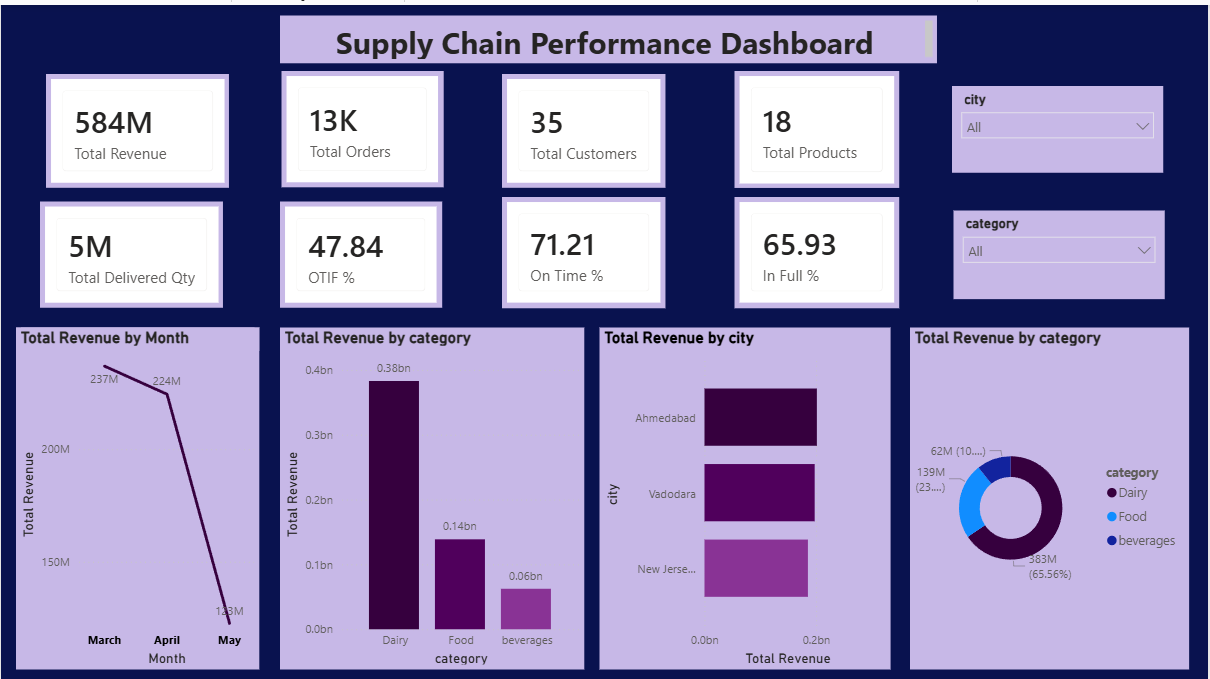

The page's visual inventory and layout, read from the dashboard file:
{"tool":"powerbi","page":{"name":"Page 1","canvas":[1280,720],"ordinal":0},"visuals":[{"type":"cardVisual","fields":{"Data":["dim_customers.Total Revenue"]},"box":[47.7,73.2,194.1,120.9],"z":0},{"type":"cardVisual","fields":{"Data":["dim_customers.Total Customers"]},"box":[531.3,73.2,173.4,120.9],"z":1000},{"type":"cardVisual","fields":{"Data":["dim_customers.Total Products"]},"box":[777.8,70,175,124.1],"z":2000},{"type":"cardVisual","fields":{"Data":["dim_customers.Total Delivered Qty"]},"box":[41.4,208.4,194.1,112.9],"z":3000},{"type":"cardVisual","fields":{"Data":["dim_customers.OTIF %"]},"box":[295.9,208.4,171.8,112.9],"z":4000},{"type":"cardVisual","fields":{"Data":["dim_customers.On Time %"]},"box":[531.3,203.6,173.4,117.7],"z":5000},{"type":"cardVisual","fields":{"Data":["dim_customers.In Full %"]},"box":[777.8,203.6,175,117.7],"z":6000},{"type":"lineChart","fields":{"Category":["fact_order_line.order_placement_date.Variation.Date Hierarchy.Month"],"Y":["dim_customers.Total Revenue"]},"box":[15.9,342,257.7,362.7],"z":7000},{"type":"clusteredColumnChart","fields":{"Category":["dim_products.category"],"Y":["dim_customers.Total Revenue"]},"box":[295.9,342,322.9,362.7],"z":8000},{"type":"clusteredBarChart","fields":{"Category":["dim_customers.city"],"Y":["dim_customers.Total Revenue"]},"box":[634.7,342,308.6,362.7],"z":9000},{"type":"donutChart","fields":{"Y":["dim_customers.Total Revenue"],"Category":["dim_products.category"]},"box":[963.9,342,295.9,362.7],"z":10000},{"type":"textbox","box":[295.9,11.1,696.7,50.9],"z":11000},{"type":"slicer","fields":{"Values":["dim_customers.city"]},"box":[1008.4,85.9,224.3,92.3],"z":12000},{"type":"slicer","fields":{"Values":["dim_products.category"]},"box":[1010,217.9,224.3,93.8],"z":13000},{"type":"cardVisual","fields":{"Data":["dim_customers.Total Orders"]},"box":[296.7,70,171.7,123.3],"z":14000}]}

Visuals, with their boxes in screenshot pixels (x1, y1, x2, y2), scaled from the page's 1280x720 canvas onto the 1210x679 screenshot:
cardVisual - dim_customers.Total Revenue: rect(45, 69, 229, 183)
cardVisual - dim_customers.Total Customers: rect(502, 69, 666, 183)
cardVisual - dim_customers.Total Products: rect(735, 66, 901, 183)
cardVisual - dim_customers.Total Delivered Qty: rect(39, 197, 223, 303)
cardVisual - dim_customers.OTIF %: rect(280, 197, 442, 303)
cardVisual - dim_customers.On Time %: rect(502, 192, 666, 303)
cardVisual - dim_customers.In Full %: rect(735, 192, 901, 303)
lineChart - fact_order_line.order_placement_date.Variation.Date Hierarchy.Month x dim_customers.Total Revenue: rect(15, 323, 259, 665)
clusteredColumnChart - dim_products.category x dim_customers.Total Revenue: rect(280, 323, 585, 665)
clusteredBarChart - dim_customers.city x dim_customers.Total Revenue: rect(600, 323, 892, 665)
donutChart - dim_customers.Total Revenue x dim_products.category: rect(911, 323, 1191, 665)
textbox: rect(280, 10, 938, 58)
slicer - dim_customers.city: rect(953, 81, 1165, 168)
slicer - dim_products.category: rect(955, 205, 1167, 294)
cardVisual - dim_customers.Total Orders: rect(280, 66, 443, 182)
